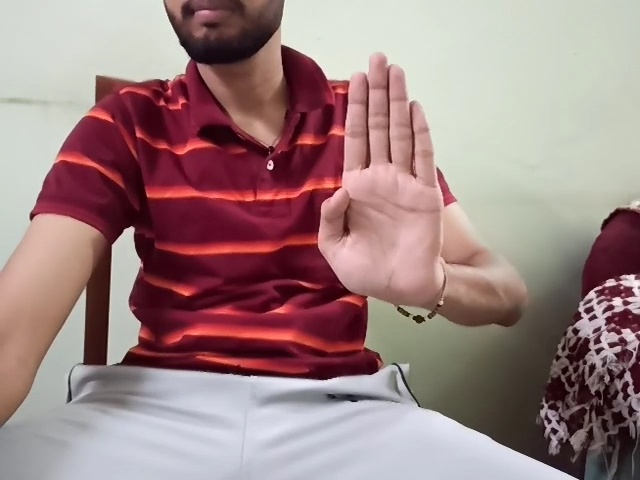B: (316, 53, 441, 304)
